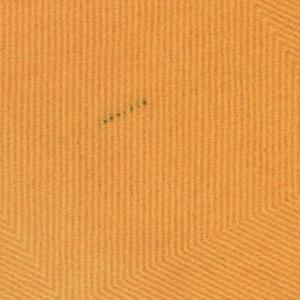stain: (100, 94, 151, 131)
